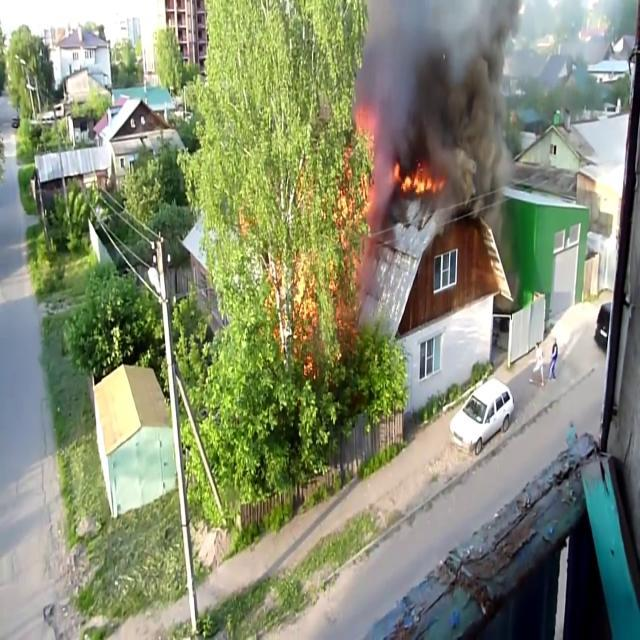Fire: (398, 157, 440, 200)
Smoke: (355, 0, 529, 208)
